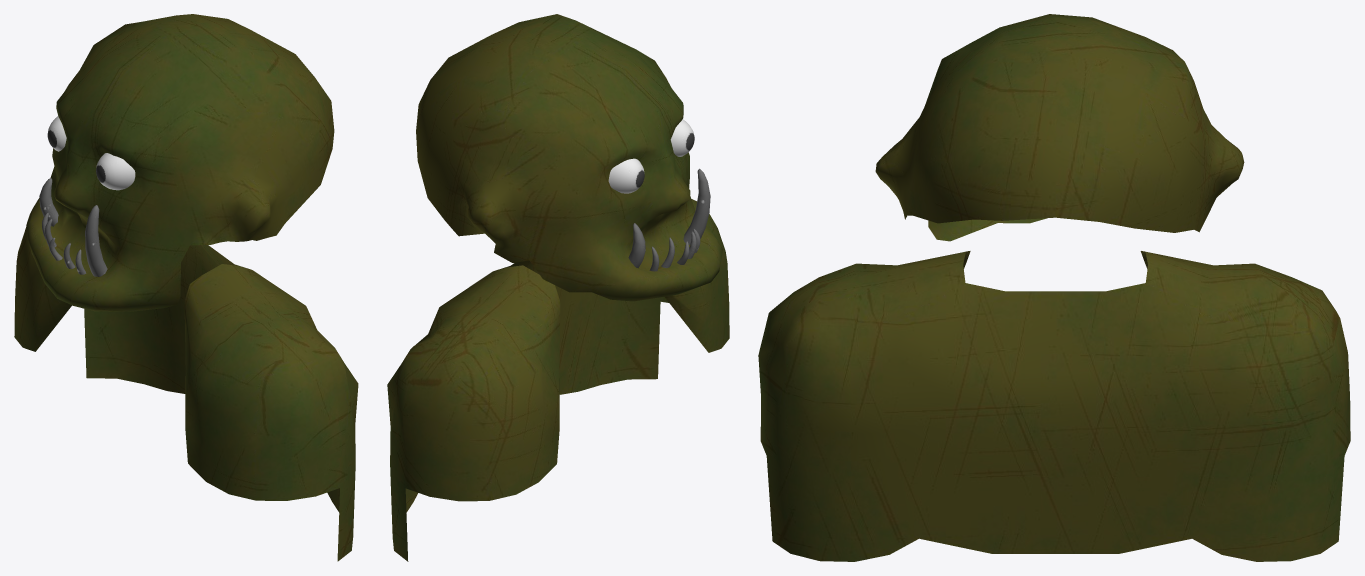
File: Ogre.fbx
The picture shows the model from 3 angles, left to right: view 1: azimuth 30°, elevation 25°; view 2: azimuth 150°, elevation 25°; view 3: azimuth 270°, elevation 25°; orthographic projection. The views are drawn at different scales.
Visible parts, largest first — view 1: Ogre; view 2: Ogre; view 3: Ogre.
Boxes of the visible parts, x1=… form: Ogre: x1=14, y1=14, x2=358, y2=561; Ogre: x1=387, y1=14, x2=729, y2=561; Ogre: x1=758, y1=14, x2=1350, y2=561.
Size of the model in its own units: 6218 by 9513 by 10172.
